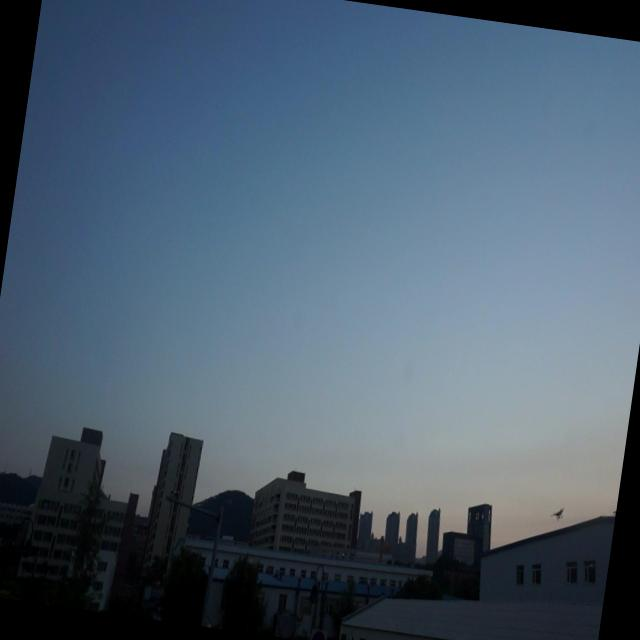drone: (550, 507, 566, 523)
